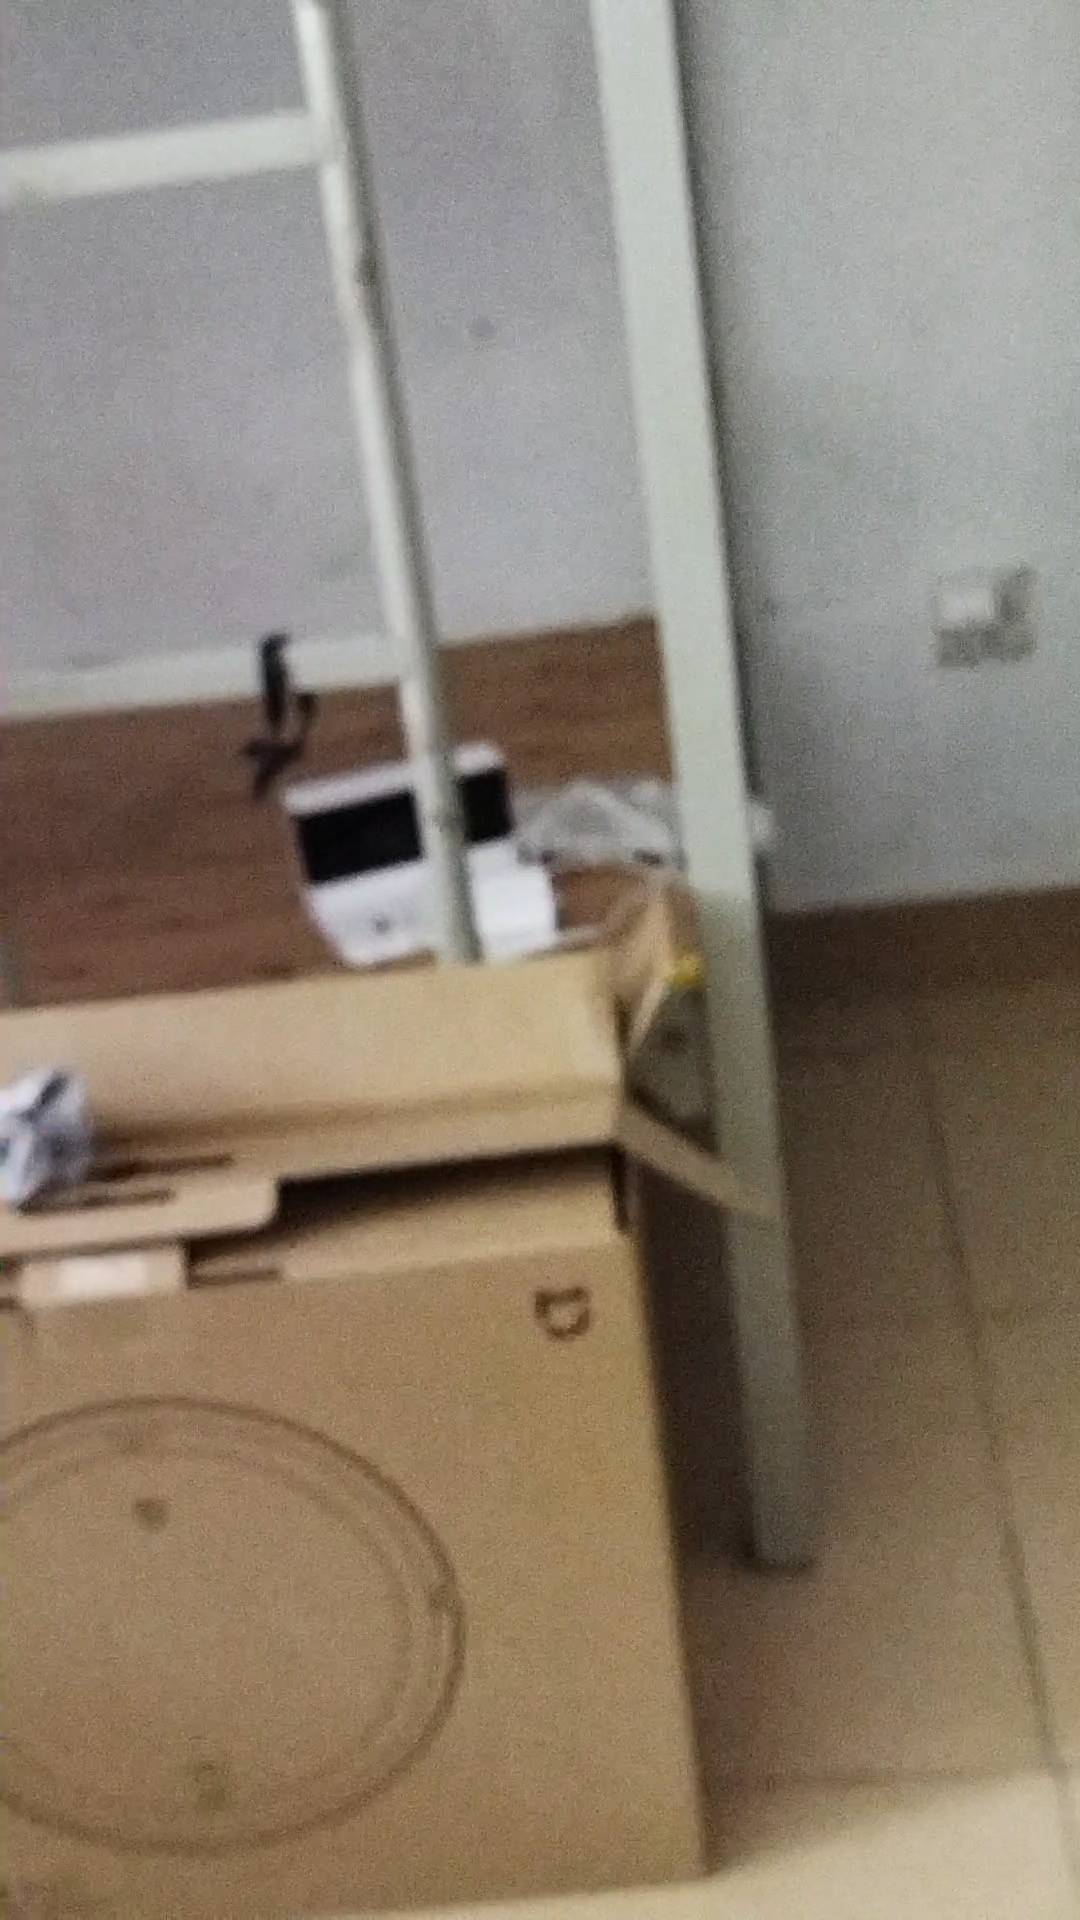recharge seat: (280, 733, 526, 971)
